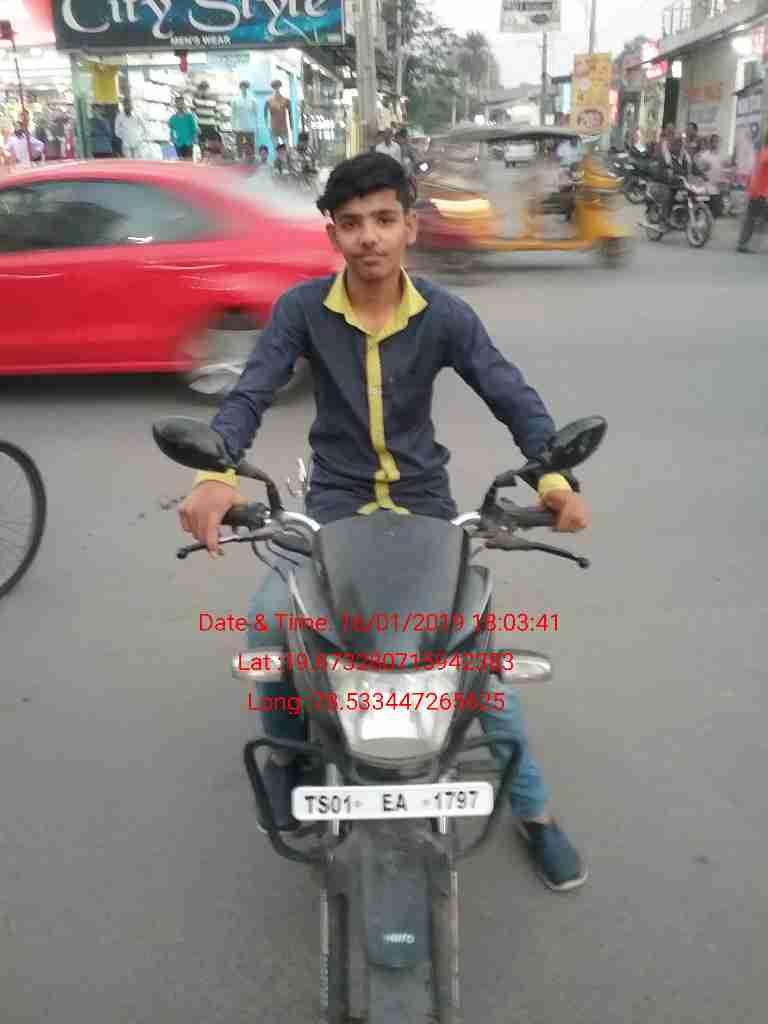plate: (290, 782, 497, 822)
